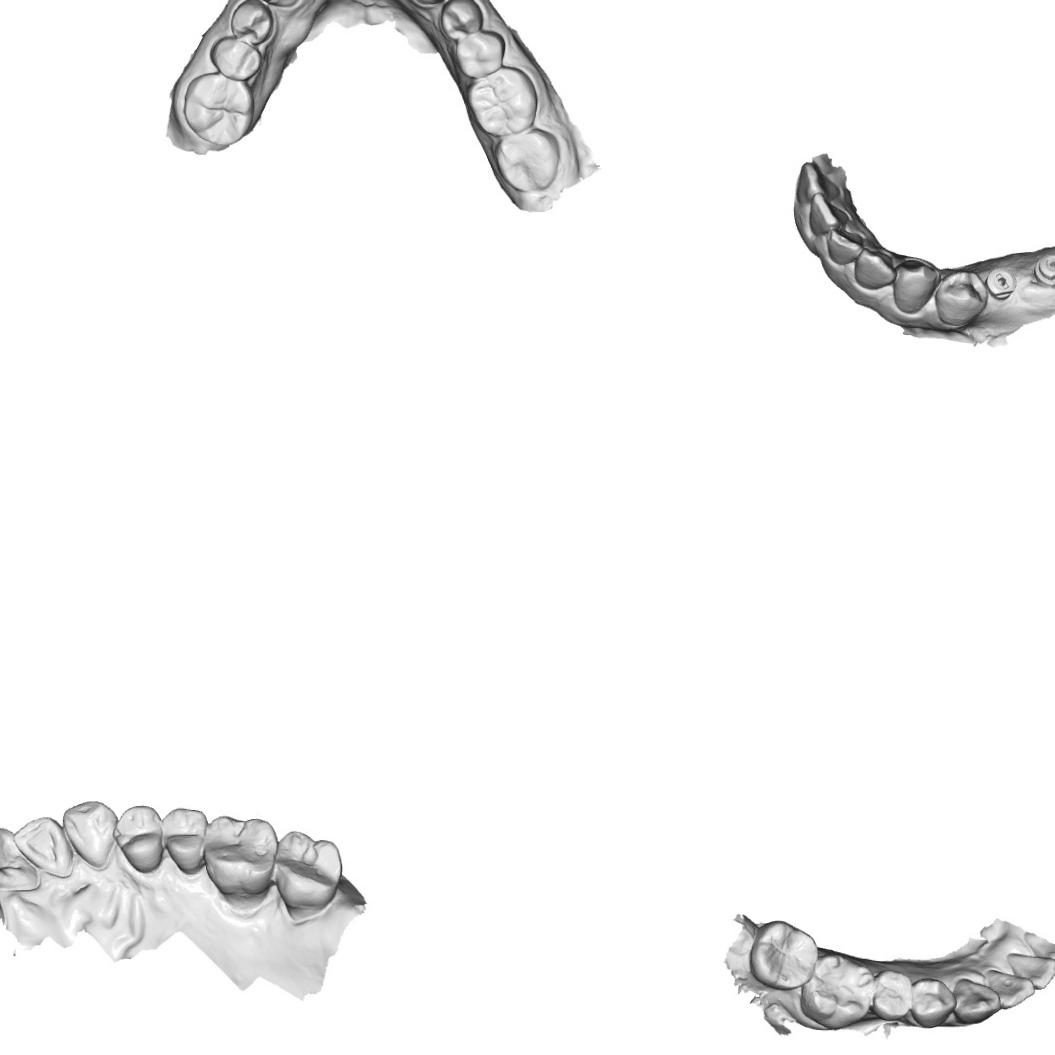canine: (61, 798, 119, 869), (891, 256, 941, 317), (950, 975, 1002, 1022)
implant: (1031, 252, 1055, 288)
implant_minus: (983, 265, 1019, 301)
incisor: (10, 815, 75, 878), (0, 825, 43, 893), (985, 968, 1037, 1010), (1003, 951, 1055, 991), (852, 247, 898, 292), (795, 159, 840, 205), (808, 192, 852, 238), (826, 226, 864, 266), (1022, 928, 1055, 963)
molar: (798, 952, 877, 1032), (203, 815, 277, 898), (181, 71, 257, 148), (746, 917, 822, 993), (274, 830, 344, 910), (465, 63, 538, 138), (493, 128, 561, 194)
premolar: (110, 804, 164, 873), (933, 269, 989, 330), (160, 805, 208, 873), (208, 33, 264, 84), (453, 28, 507, 80), (910, 976, 956, 1028), (872, 966, 913, 1022), (227, 0, 274, 46), (436, 0, 485, 41)
